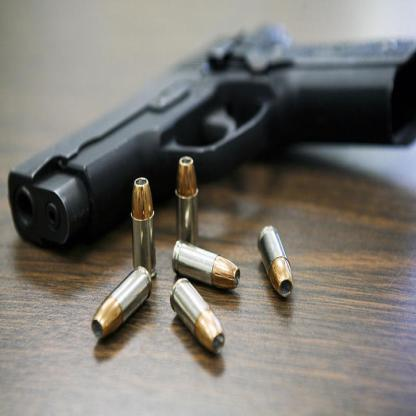Pistol: (8, 19, 416, 256)
